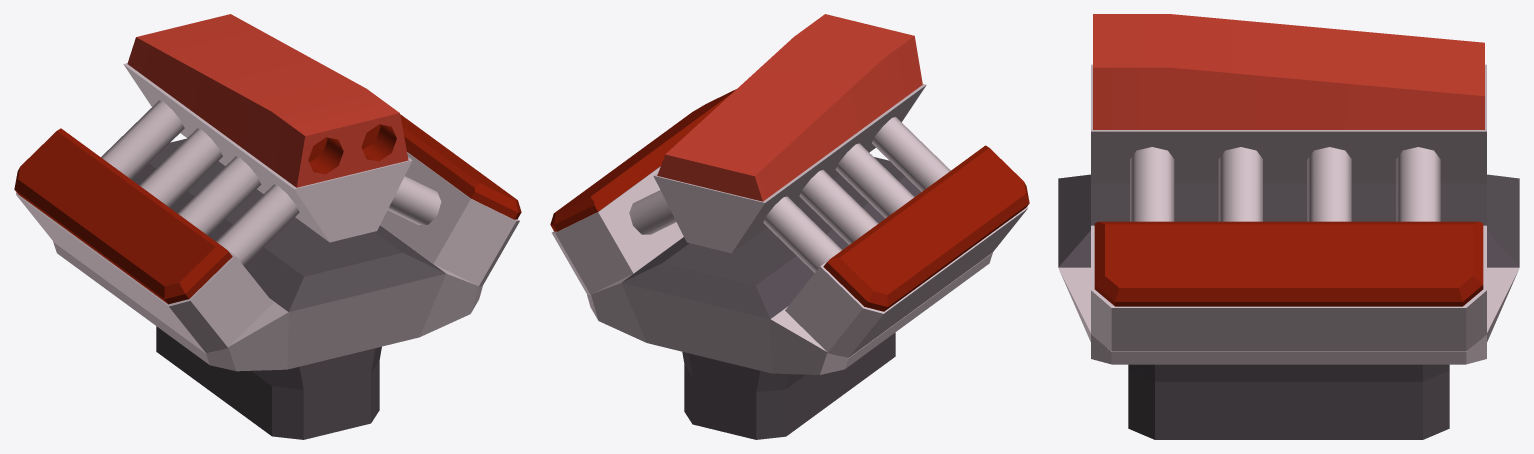
The model's file is engine2.fbx.
The picture shows the model from 3 angles, left to right: view 1: azimuth 30°, elevation 25°; view 2: azimuth 150°, elevation 25°; view 3: azimuth 270°, elevation 25°; orthographic projection. The views are drawn at different scales.
Parts seen in each view (by area): view 1: Cube.002; view 2: Cube.002; view 3: Cube.002.
Part boxes in pixels (bbox=[...]): Cube.002: bbox=[14, 14, 521, 439]; Cube.002: bbox=[550, 14, 1029, 439]; Cube.002: bbox=[1058, 14, 1519, 439].
Size of the model in its own units: 6.03 by 5.14 by 5.83.
Materials: 1 (1 with a texture image).
